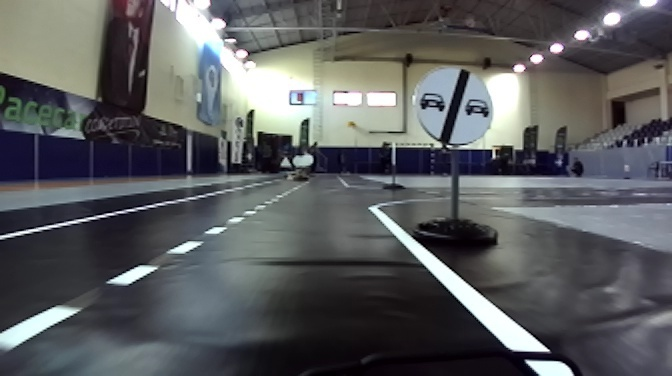sollama_serbest: (415, 70, 495, 145)
